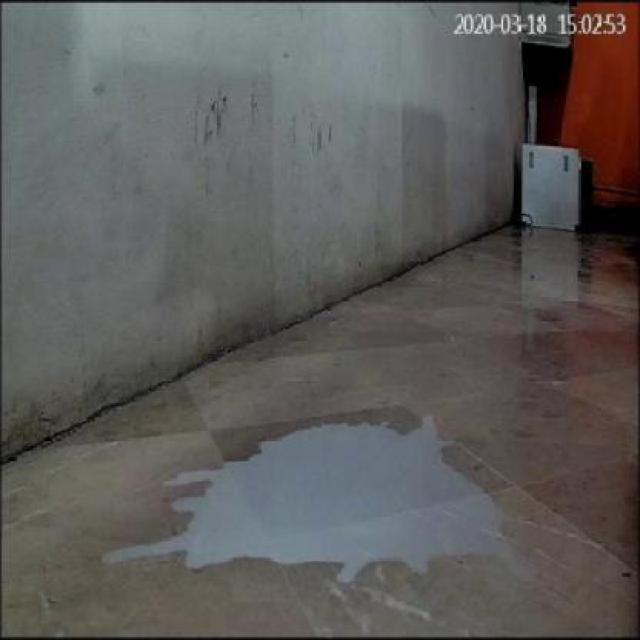spillage: (102, 407, 552, 591)
